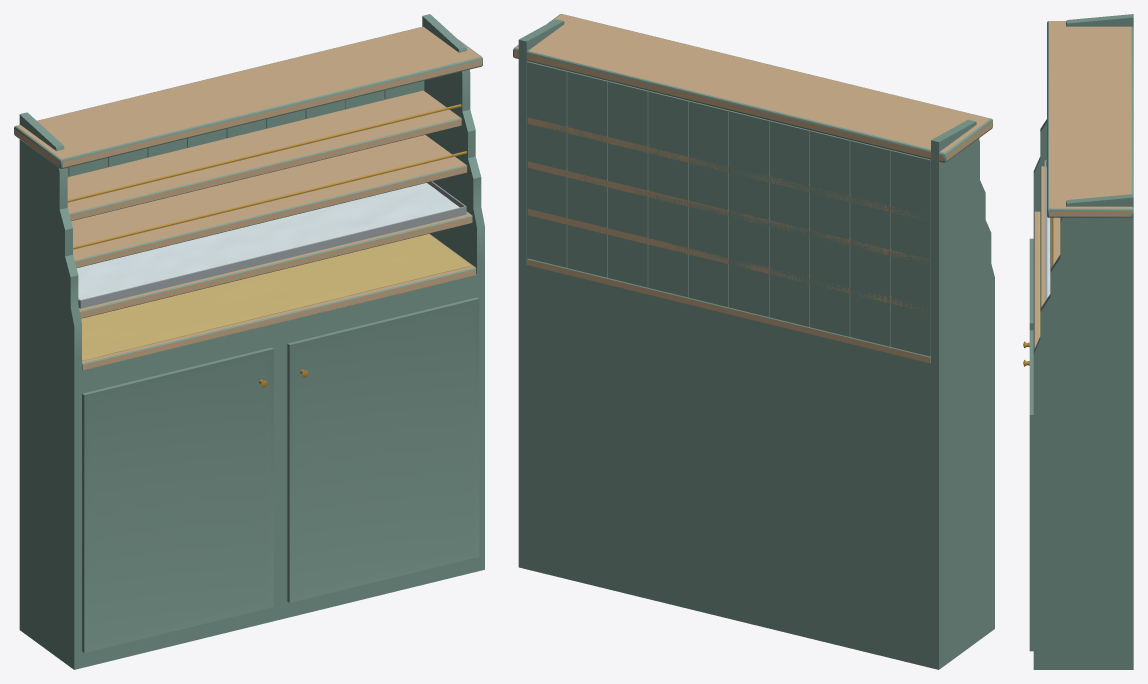
The model's file is pantry_dresser.glb.
3 views of the same model, side by side, from view 1: azimuth 30°, elevation 25°; view 2: azimuth 150°, elevation 25°; view 3: azimuth 270°, elevation 25° (orthographic). The views are drawn at different scales.
Visible parts, largest first — view 1: pantry_dresser; view 2: pantry_dresser; view 3: pantry_dresser.
Boxes of the visible parts, <box> form: pantry_dresser: <box>14,14,484,669</box>; pantry_dresser: <box>513,14,994,669</box>; pantry_dresser: <box>1023,14,1133,669</box>.
Bounding box in the file's own units: 1.34 × 1.56 × 0.331.
